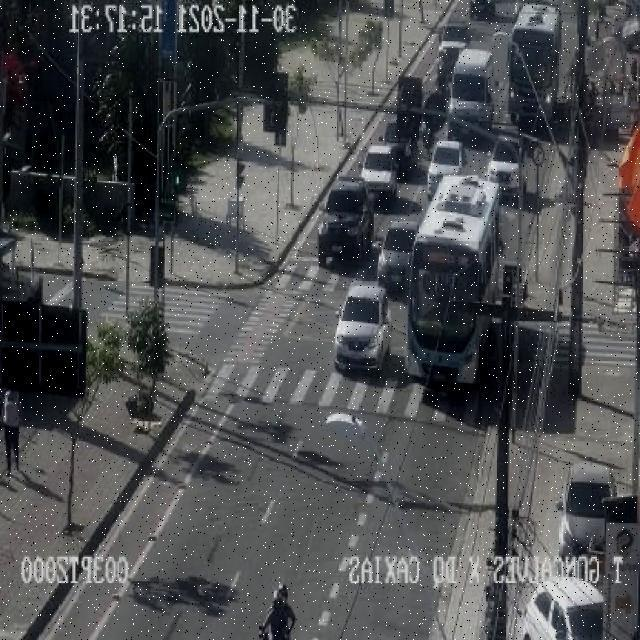Bus: (402, 174, 502, 388)
Car: (508, 4, 562, 130), (556, 462, 620, 561), (315, 176, 378, 268), (330, 283, 391, 376), (516, 578, 605, 640), (374, 217, 423, 296), (354, 143, 404, 205), (486, 135, 528, 201), (425, 138, 469, 199), (379, 117, 418, 176), (437, 17, 471, 55)
Cycle: (435, 56, 450, 88)
Van: (446, 48, 496, 141)
